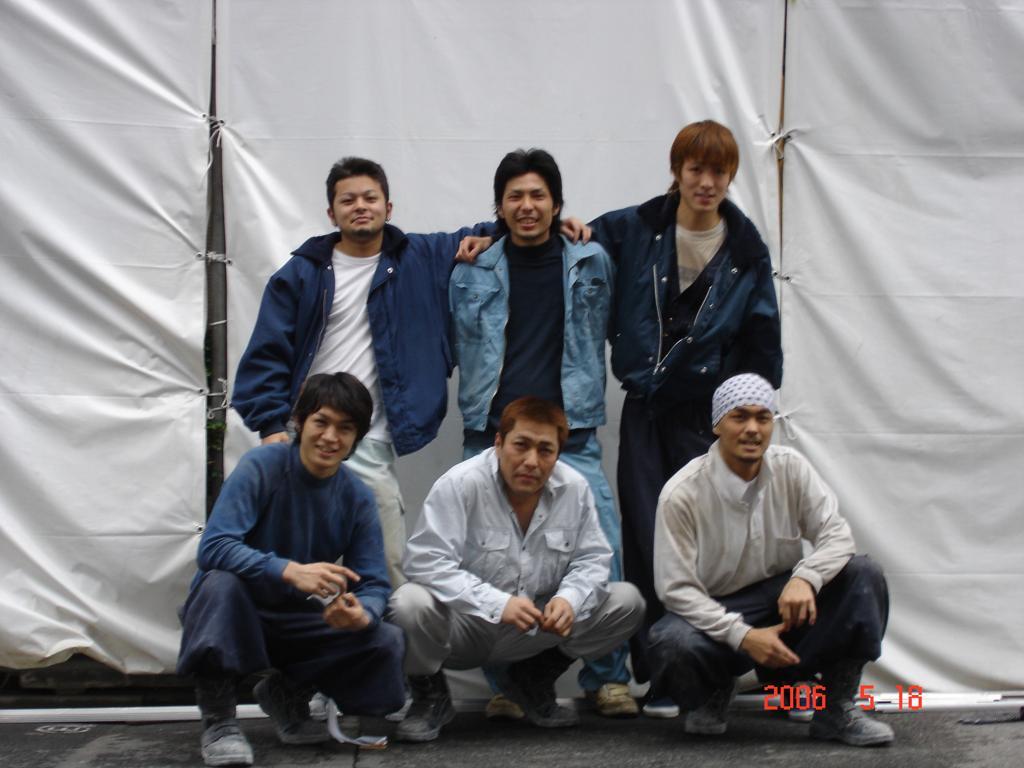face: (504, 421, 558, 496), (303, 401, 356, 467), (502, 170, 553, 235), (721, 401, 772, 461), (332, 174, 385, 231), (680, 153, 729, 211)
